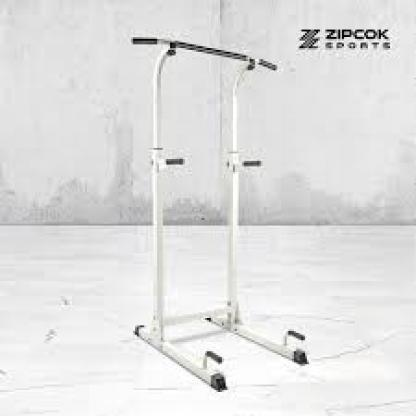chinning dipping: (129, 34, 309, 392)
